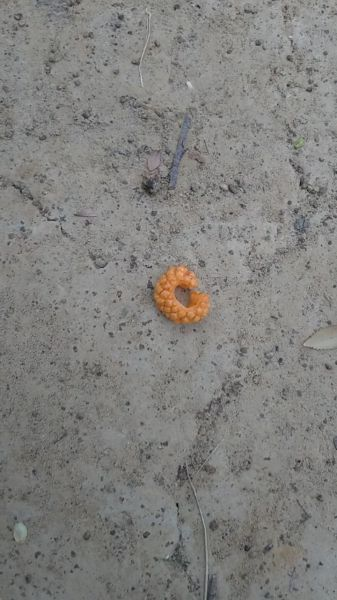eggs: (154, 261, 213, 323)
